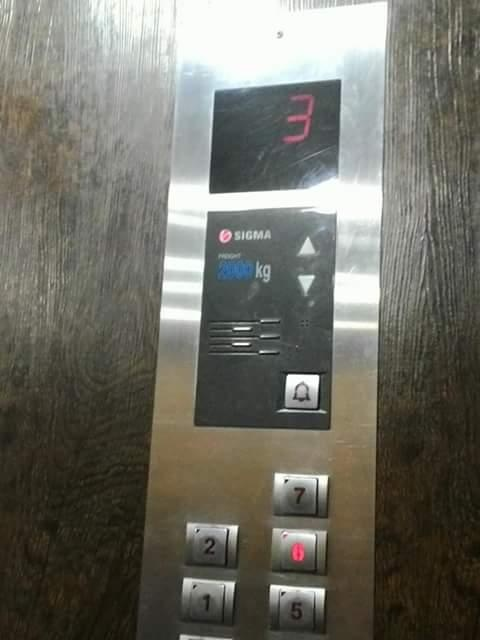1: (179, 573, 239, 628)
2: (183, 520, 241, 571)
5: (266, 581, 329, 638)
6: (268, 524, 329, 577)
7: (271, 469, 330, 518)
alarm: (279, 369, 325, 415)
led: (206, 76, 344, 196)
